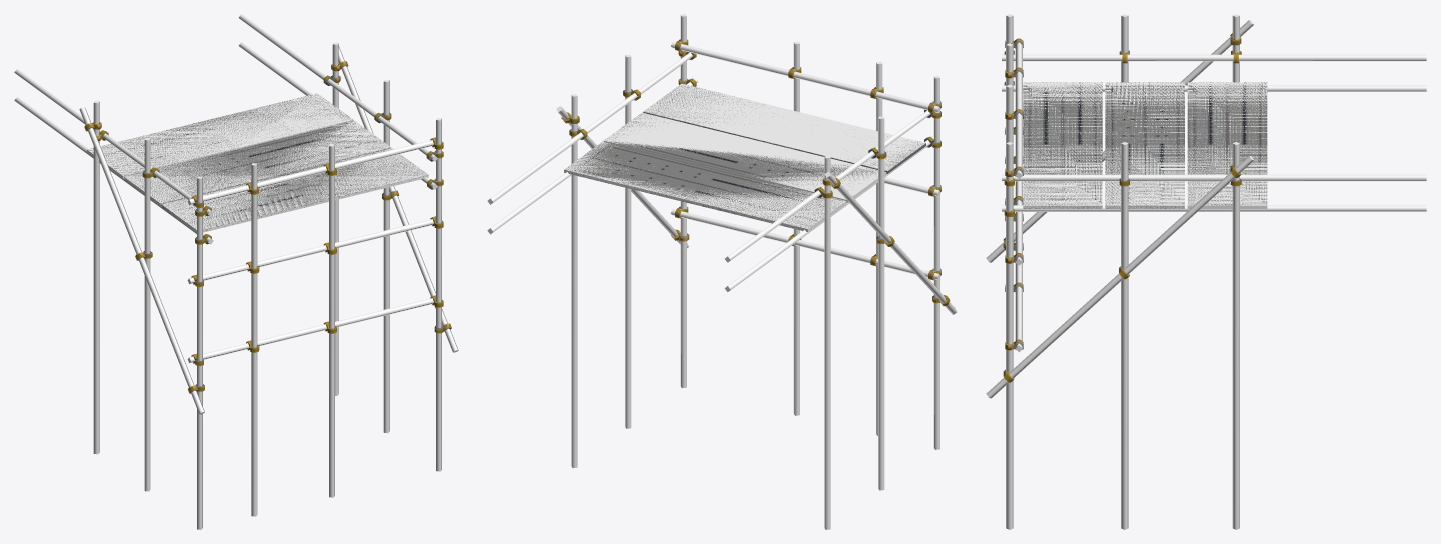
The model's file is objects_un_t07scaffolding02.gltf.
3 views of the same model, side by side, from view 1: azimuth 30°, elevation 25°; view 2: azimuth 150°, elevation 25°; view 3: azimuth 270°, elevation 25° (orthographic). The views are drawn at different scales.
Parts seen in each view (by area): view 1: um_objects_un_t07scaffolding02_model_lod0Shape:objects_un_be, um_objects_un_t07scaffolding02_model_lod0Shape:objects_un_t0; view 2: um_objects_un_t07scaffolding02_model_lod0Shape:objects_un_be, um_objects_un_t07scaffolding02_model_lod0Shape:objects_un_t0; view 3: um_objects_un_t07scaffolding02_model_lod0Shape:objects_un_be, um_objects_un_t07scaffolding02_model_lod0Shape:objects_un_t0.
Boxes of the visible parts, bbox=[...] form: um_objects_un_t07scaffolding02_model_lod0Shape:objects_un_be: bbox=[14, 14, 458, 529]; um_objects_un_t07scaffolding02_model_lod0Shape:objects_un_t0: bbox=[84, 61, 451, 393]; um_objects_un_t07scaffolding02_model_lod0Shape:objects_un_be: bbox=[487, 14, 957, 529]; um_objects_un_t07scaffolding02_model_lod0Shape:objects_un_t0: bbox=[561, 39, 950, 306]; um_objects_un_t07scaffolding02_model_lod0Shape:objects_un_be: bbox=[986, 14, 1426, 529]; um_objects_un_t07scaffolding02_model_lod0Shape:objects_un_t0: bbox=[1003, 33, 1267, 382].
Size of what is drawn, in the model's own units: 6.22 by 8 by 8.29.
Materials: 2 (1 with a texture image).
